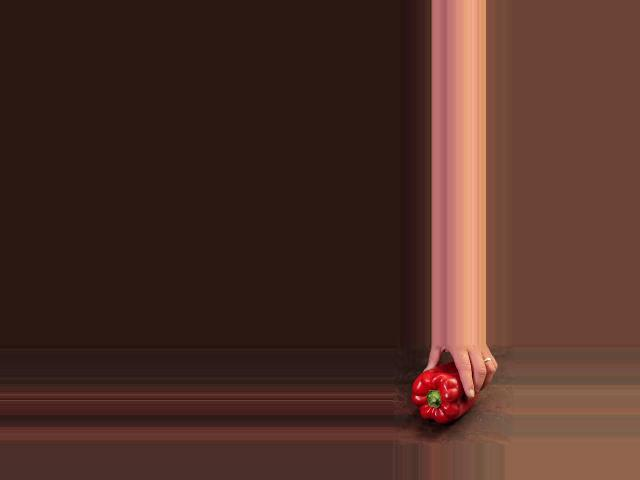bell_pepper: (410, 365, 472, 424)
